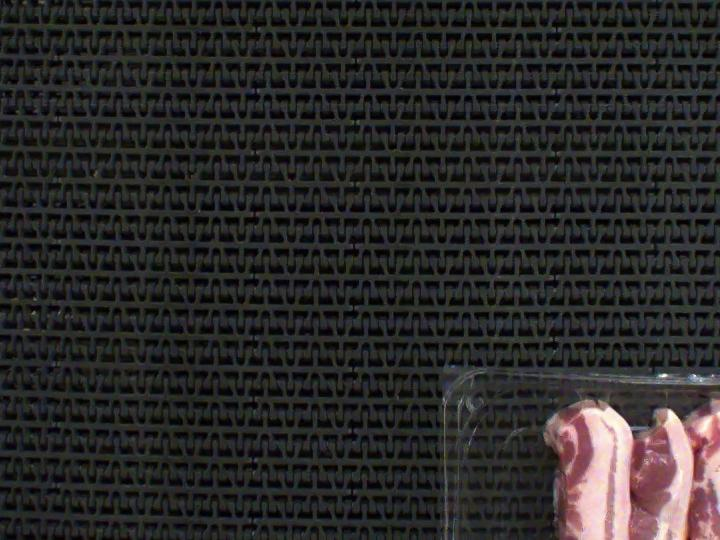packaging-error: (568, 382, 620, 410)
